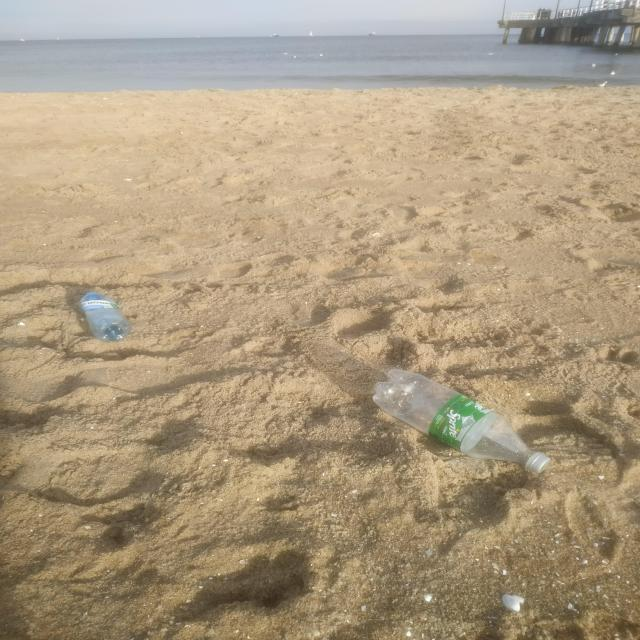litter: (337, 360, 545, 475)
